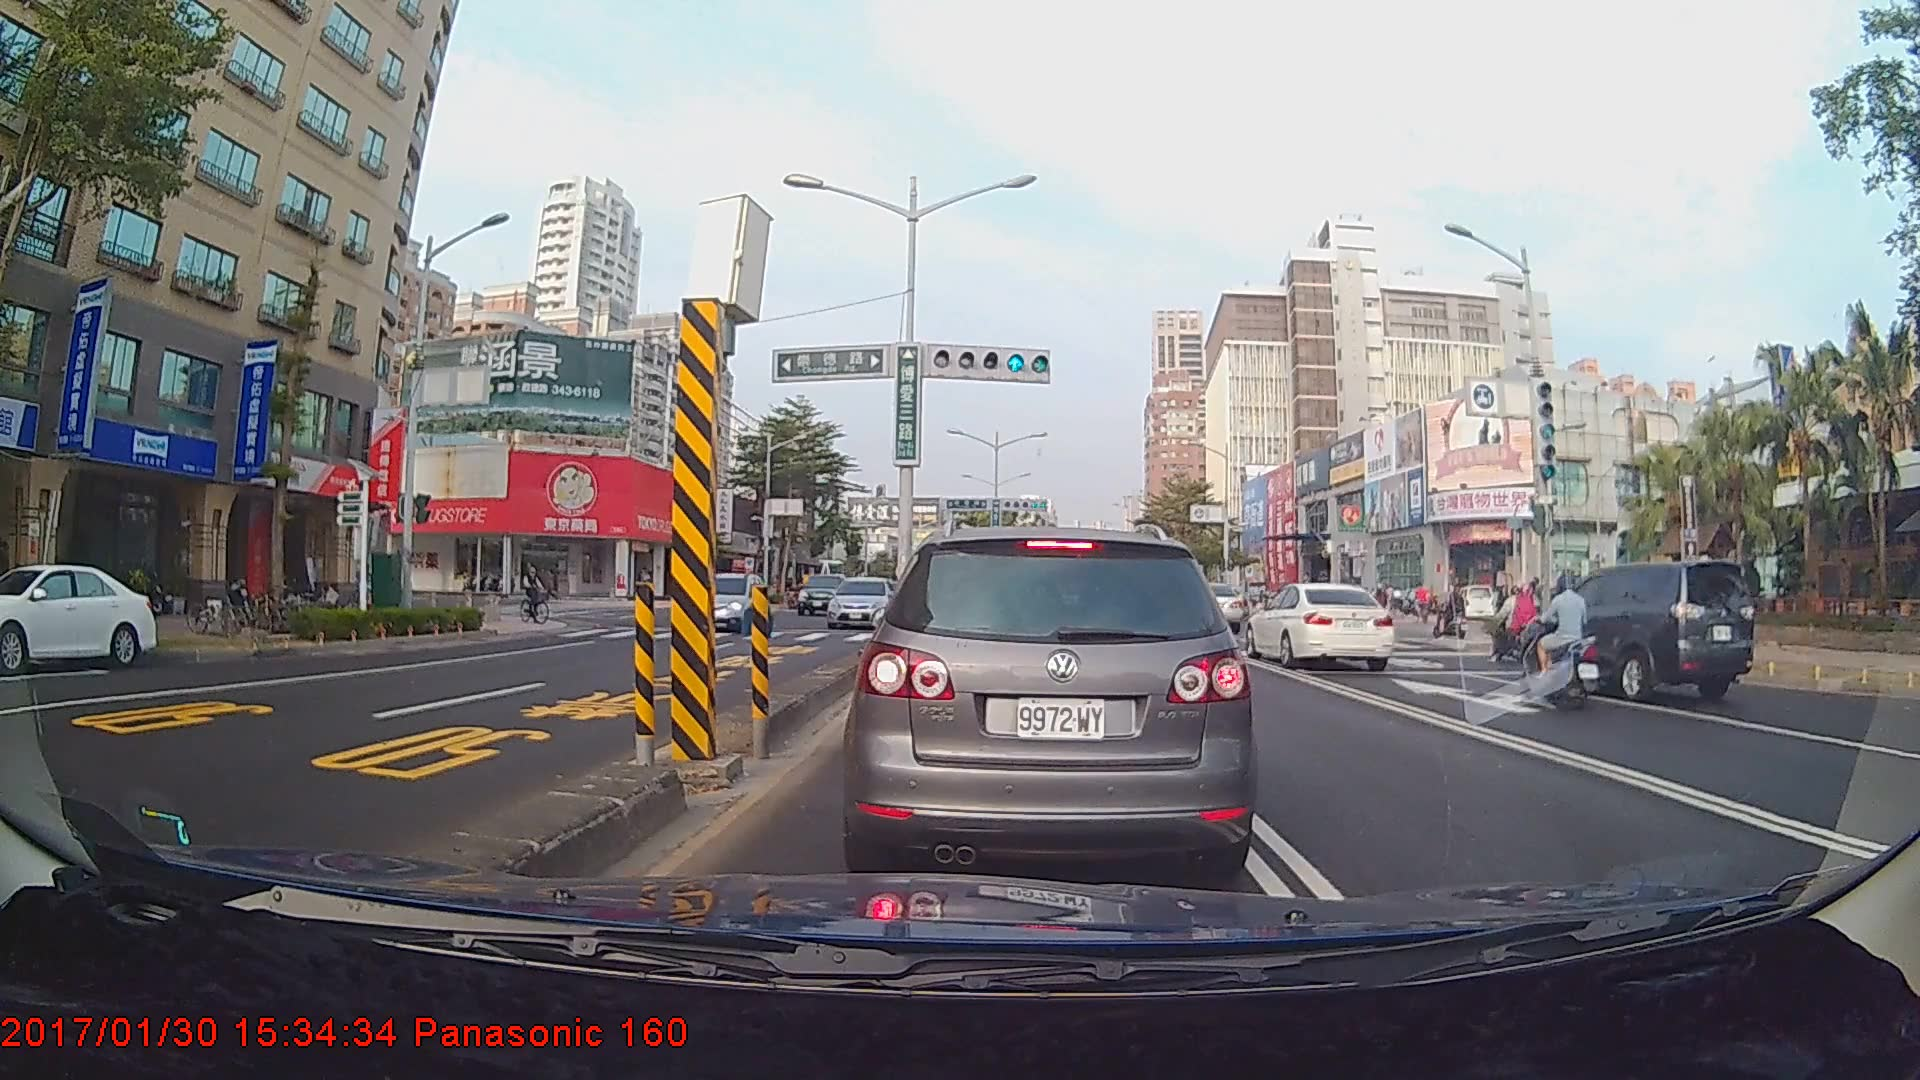rider: (1515, 573, 1607, 715), (1485, 582, 1548, 668), (518, 559, 561, 629), (1436, 582, 1473, 646)
vehicle: (852, 518, 1249, 883), (1520, 559, 1757, 704), (0, 561, 157, 671), (1245, 581, 1394, 671), (688, 569, 769, 633), (824, 573, 900, 630), (1176, 580, 1245, 633), (794, 573, 852, 616)
